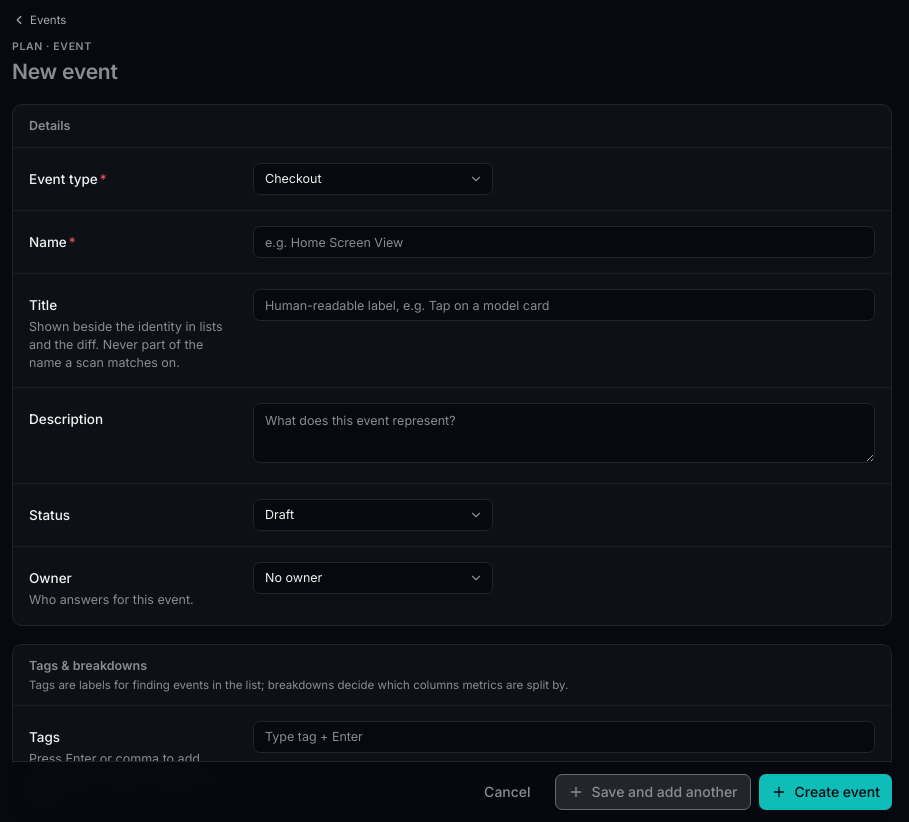
Test case: EventForm name field › offers one of the type's own names as the example, and points out a name in another style (AU-41)
Step 1. Type "checkout:completed" into the field labelled "Name" → (564,242), box [253,226,875,258]
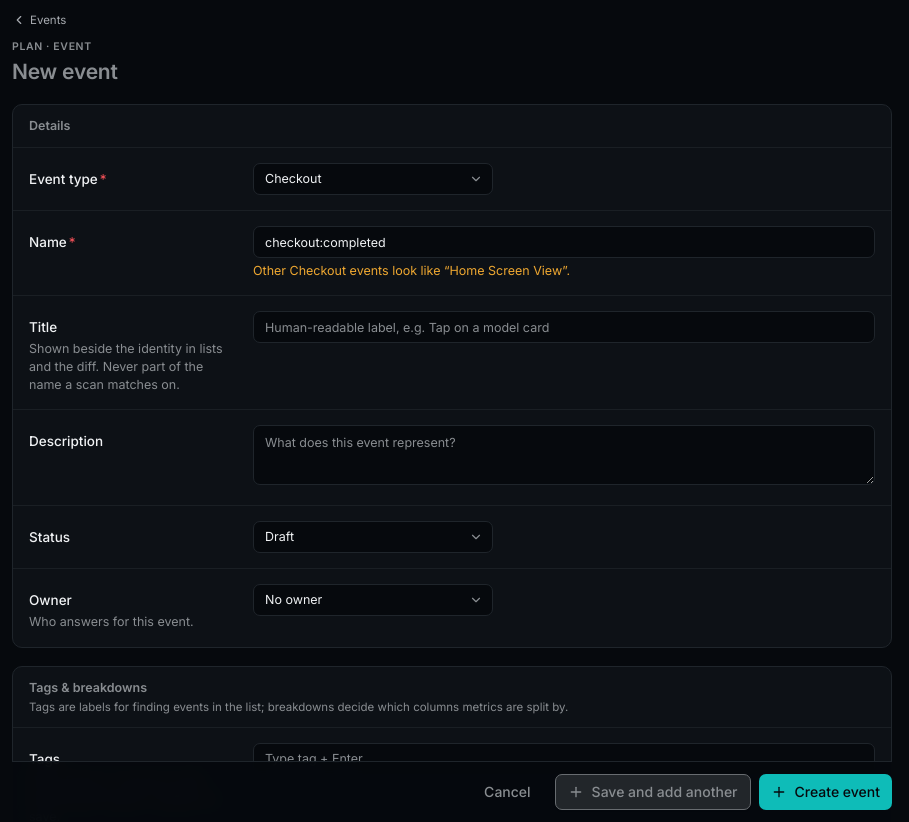
Expected: the button "Create event" is enabled, [758,774,892,810]
Expected: the text "Other Checkout events look like “Home Screen View”." is shown, [253,263,570,278]
Step 2. Replace the text in the field labelled "Name" with "Profile Screen View" → (564,242), box [253,226,875,258]
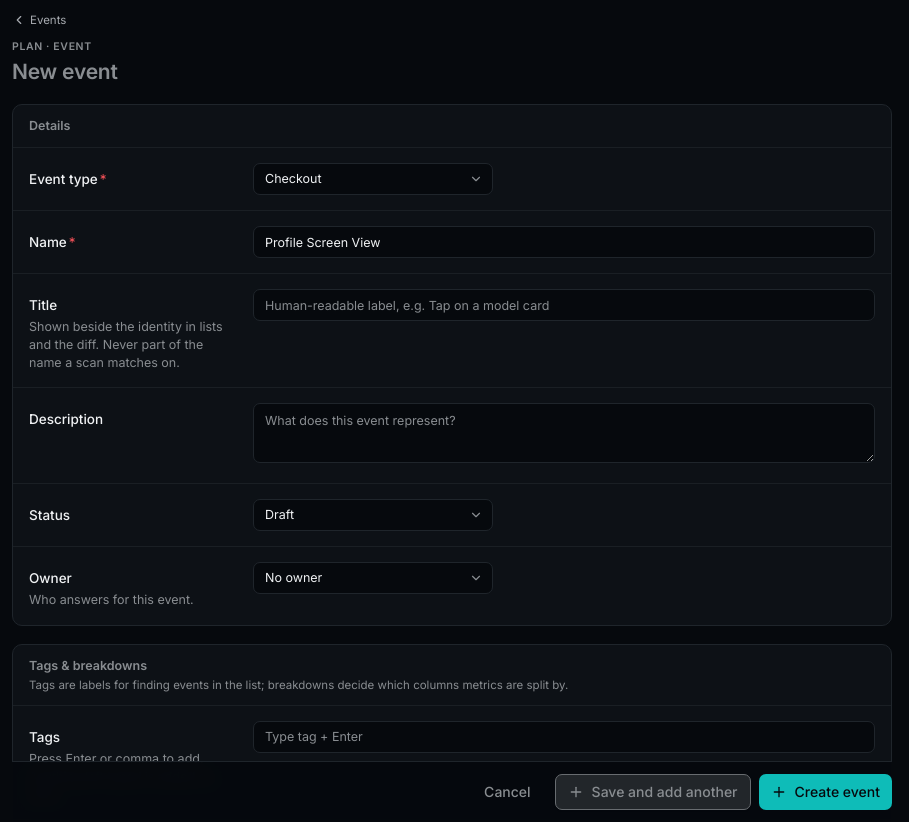
Expected: the text "events look like" is gone
